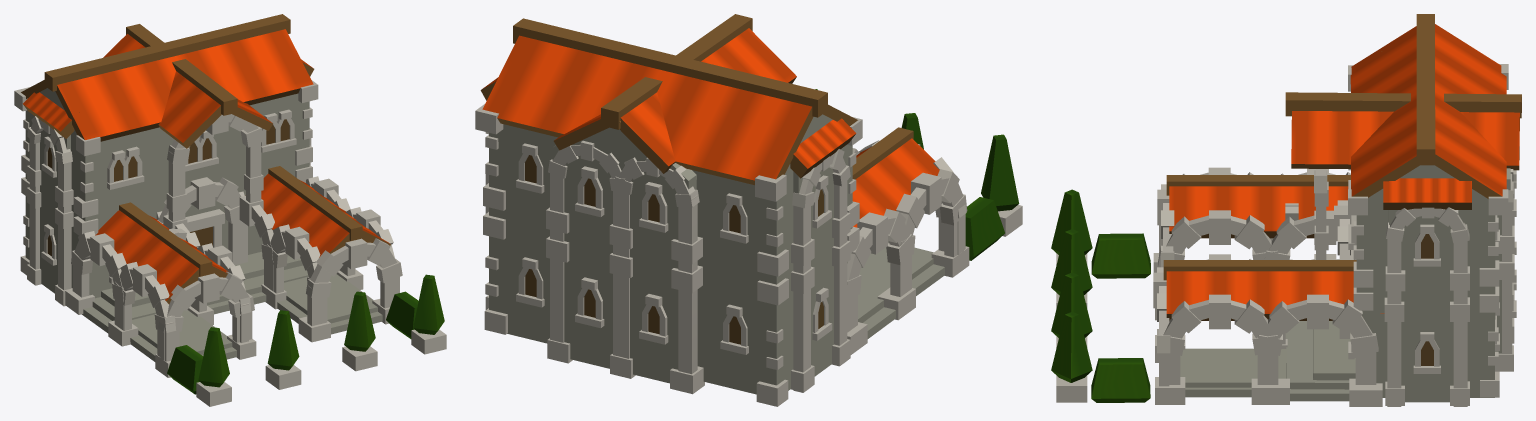
Rendered from hallofdiplomacy.fbx.
3 renders of one model, left to right at view 1: azimuth 30°, elevation 25°; view 2: azimuth 150°, elevation 25°; view 3: azimuth 270°, elevation 25°, orthographic. The views are drawn at different scales.
Visible parts, largest first — view 1: hallofdiplomacy:polySurface3186; view 2: hallofdiplomacy:polySurface3186; view 3: hallofdiplomacy:polySurface3186.
Boxes of the visible parts, x1,y1,x2,y2 form: hallofdiplomacy:polySurface3186: (14, 14, 446, 406); hallofdiplomacy:polySurface3186: (475, 14, 1022, 406); hallofdiplomacy:polySurface3186: (1051, 14, 1521, 406).
Bounding box in the file's own units: 231 × 191 × 317.
1 material, 1 textured.
